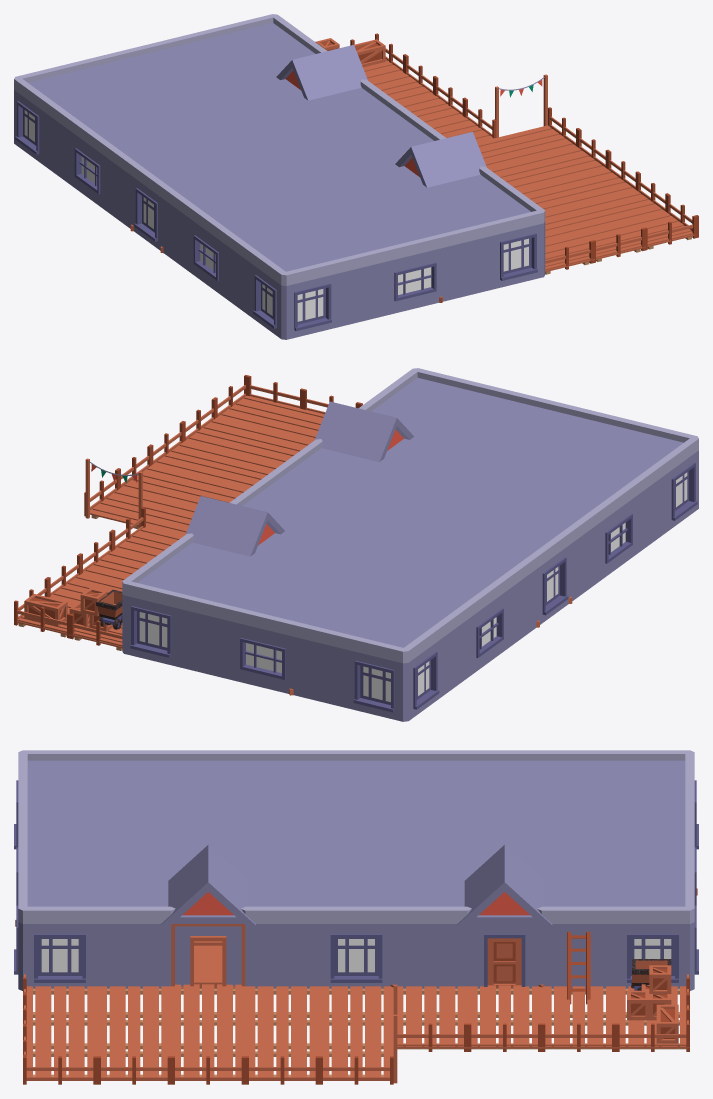
The model's file is Station.glb.
The picture shows the model from 3 angles, top to bottom: view 1: azimuth 30°, elevation 25°; view 2: azimuth 150°, elevation 25°; view 3: azimuth 270°, elevation 25°; orthographic projection. The views are drawn at different scales.
Visible parts, largest first — view 1: roof_flat (×21), roof_flatSide (×18), platform_wood (×15), wall (×6), window_largeSections (×5), roof_flatCorner (×4), roof (×2), window_decorativeLarge (×3), fence_classicFarm (×2), detail_crateLong, poles_garland; view 2: roof_flatSide (×18), roof_flat (×21), platform_wood (×13), wall (×6), window_largeSections (×5), roof_flatCorner (×4), roof (×2), window_decorativeLarge (×3), fence_classicFarm (×3), detail_crateLong, cart, poles_garland; view 3: roof_flatSide (×18), roof_flat (×23), platform_wood (×23), wall (×4), window_largeSections (×4), roof_flatCorner (×4), roof (×2), fence_classicFarm (×9), doorway_doorSolid, wall_eastAsianDoorway, detail_crate (×2), porch_floorCenter (+3 smaller).
Part boxes in pixels (x1=…): roof_flat (×21): x1=103, y1=53, x2=463, y2=242; roof_flatSide (×18): x1=43, y1=26, x2=515, y2=273; platform_wood (×15): x1=363, y1=59, x2=696, y2=274; wall (×6): x1=43, y1=112, x2=492, y2=327; window_largeSections (×5): x1=14, y1=90, x2=545, y2=339; roof_flatCorner (×4): x1=14, y1=14, x2=545, y2=285; roof (×2): x1=276, y1=45, x2=486, y2=187; window_decorativeLarge (×3): x1=73, y1=133, x2=440, y2=314; fence_classicFarm (×2): x1=592, y1=215, x2=696, y2=262; detail_crateLong: x1=354, y1=39, x2=385, y2=67; poles_garland: x1=495, y1=74, x2=547, y2=137; roof_flatSide (×18): x1=154, y1=381, x2=666, y2=649; roof_flat (×21): x1=210, y1=411, x2=601, y2=619; platform_wood (×13): x1=49, y1=395, x2=324, y2=603; wall (×6): x1=179, y1=474, x2=666, y2=707; window_largeSections (×5): x1=122, y1=450, x2=698, y2=721; roof_flatCorner (×4): x1=122, y1=368, x2=698, y2=663; roof (×2): x1=185, y1=401, x2=413, y2=556; window_decorativeLarge (×3): x1=235, y1=498, x2=634, y2=693; fence_classicFarm (×3): x1=14, y1=375, x2=303, y2=646; detail_crateLong: x1=24, y1=594, x2=67, y2=626; cart: x1=96, y1=589, x2=122, y2=629; poles_garland: x1=85, y1=458, x2=142, y2=527; roof_flatSide (×18): x1=18, y1=750, x2=694, y2=923; roof_flat (×23): x1=93, y1=789, x2=620, y2=923; platform_wood (×23): x1=26, y1=984, x2=689, y2=1076; wall (×4): x1=97, y1=924, x2=615, y2=988; window_largeSections (×4): x1=18, y1=905, x2=698, y2=990; roof_flatCorner (×4): x1=18, y1=750, x2=694, y2=923; roof (×2): x1=160, y1=844, x2=552, y2=929; fence_classicFarm (×9): x1=23, y1=1023, x2=689, y2=1084; doorway_doorSolid: x1=467, y1=924, x2=541, y2=988; wall_eastAsianDoorway: x1=171, y1=924, x2=245, y2=988; detail_crate (×2): x1=627, y1=965, x2=671, y2=1020; porch_floorCenter: x1=194, y1=951, x2=222, y2=988.
Size of the model in its own units: 8.17 by 1.65 by 9.25.
323 materials, 1 textured.
